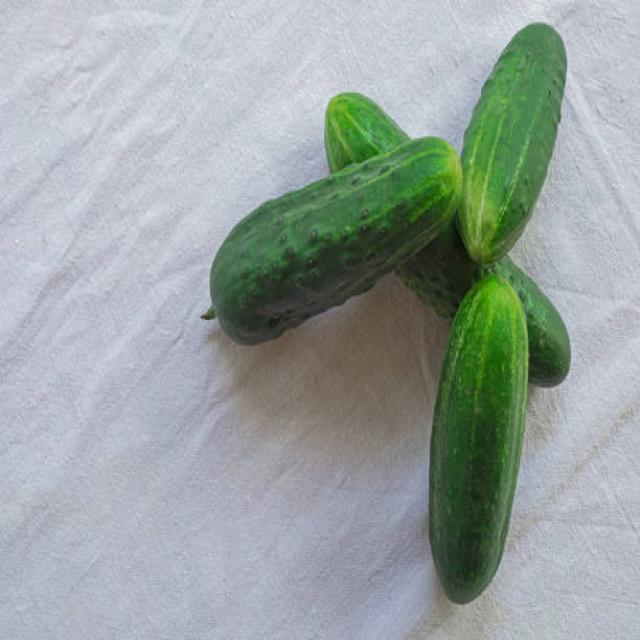cucumber: (208, 135, 462, 347), (426, 280, 527, 606), (458, 24, 567, 259)
